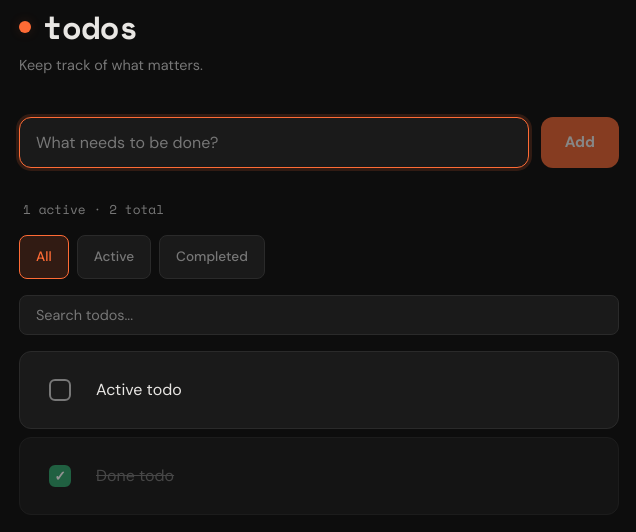
Test: App › shows All todos when All filter clicked
Expected: the text "Active todo" is shown, [96,379,182,400]
Click the button "Completed": (212, 257) [159,235,265,279]
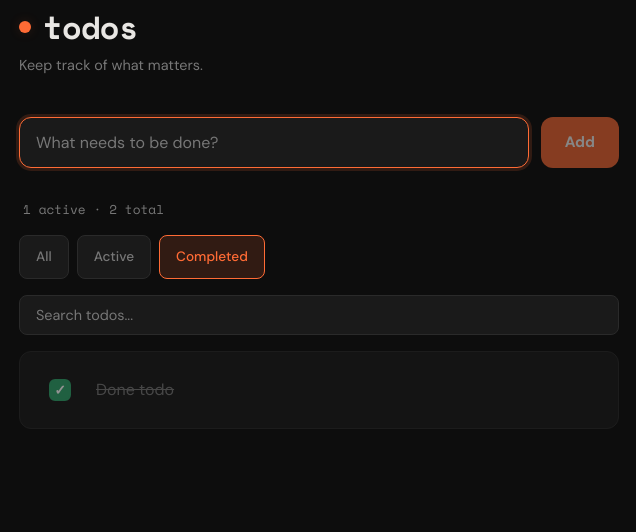
Click the button "All": (44, 257) [19,235,69,279]
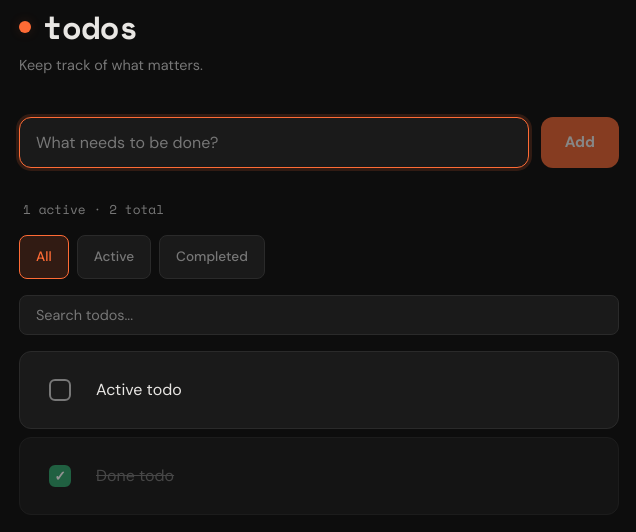
Expected: the text "Done todo" is shown, [96,465,174,486]
Expected: the text "Active todo" is shown, [96,379,182,400]
